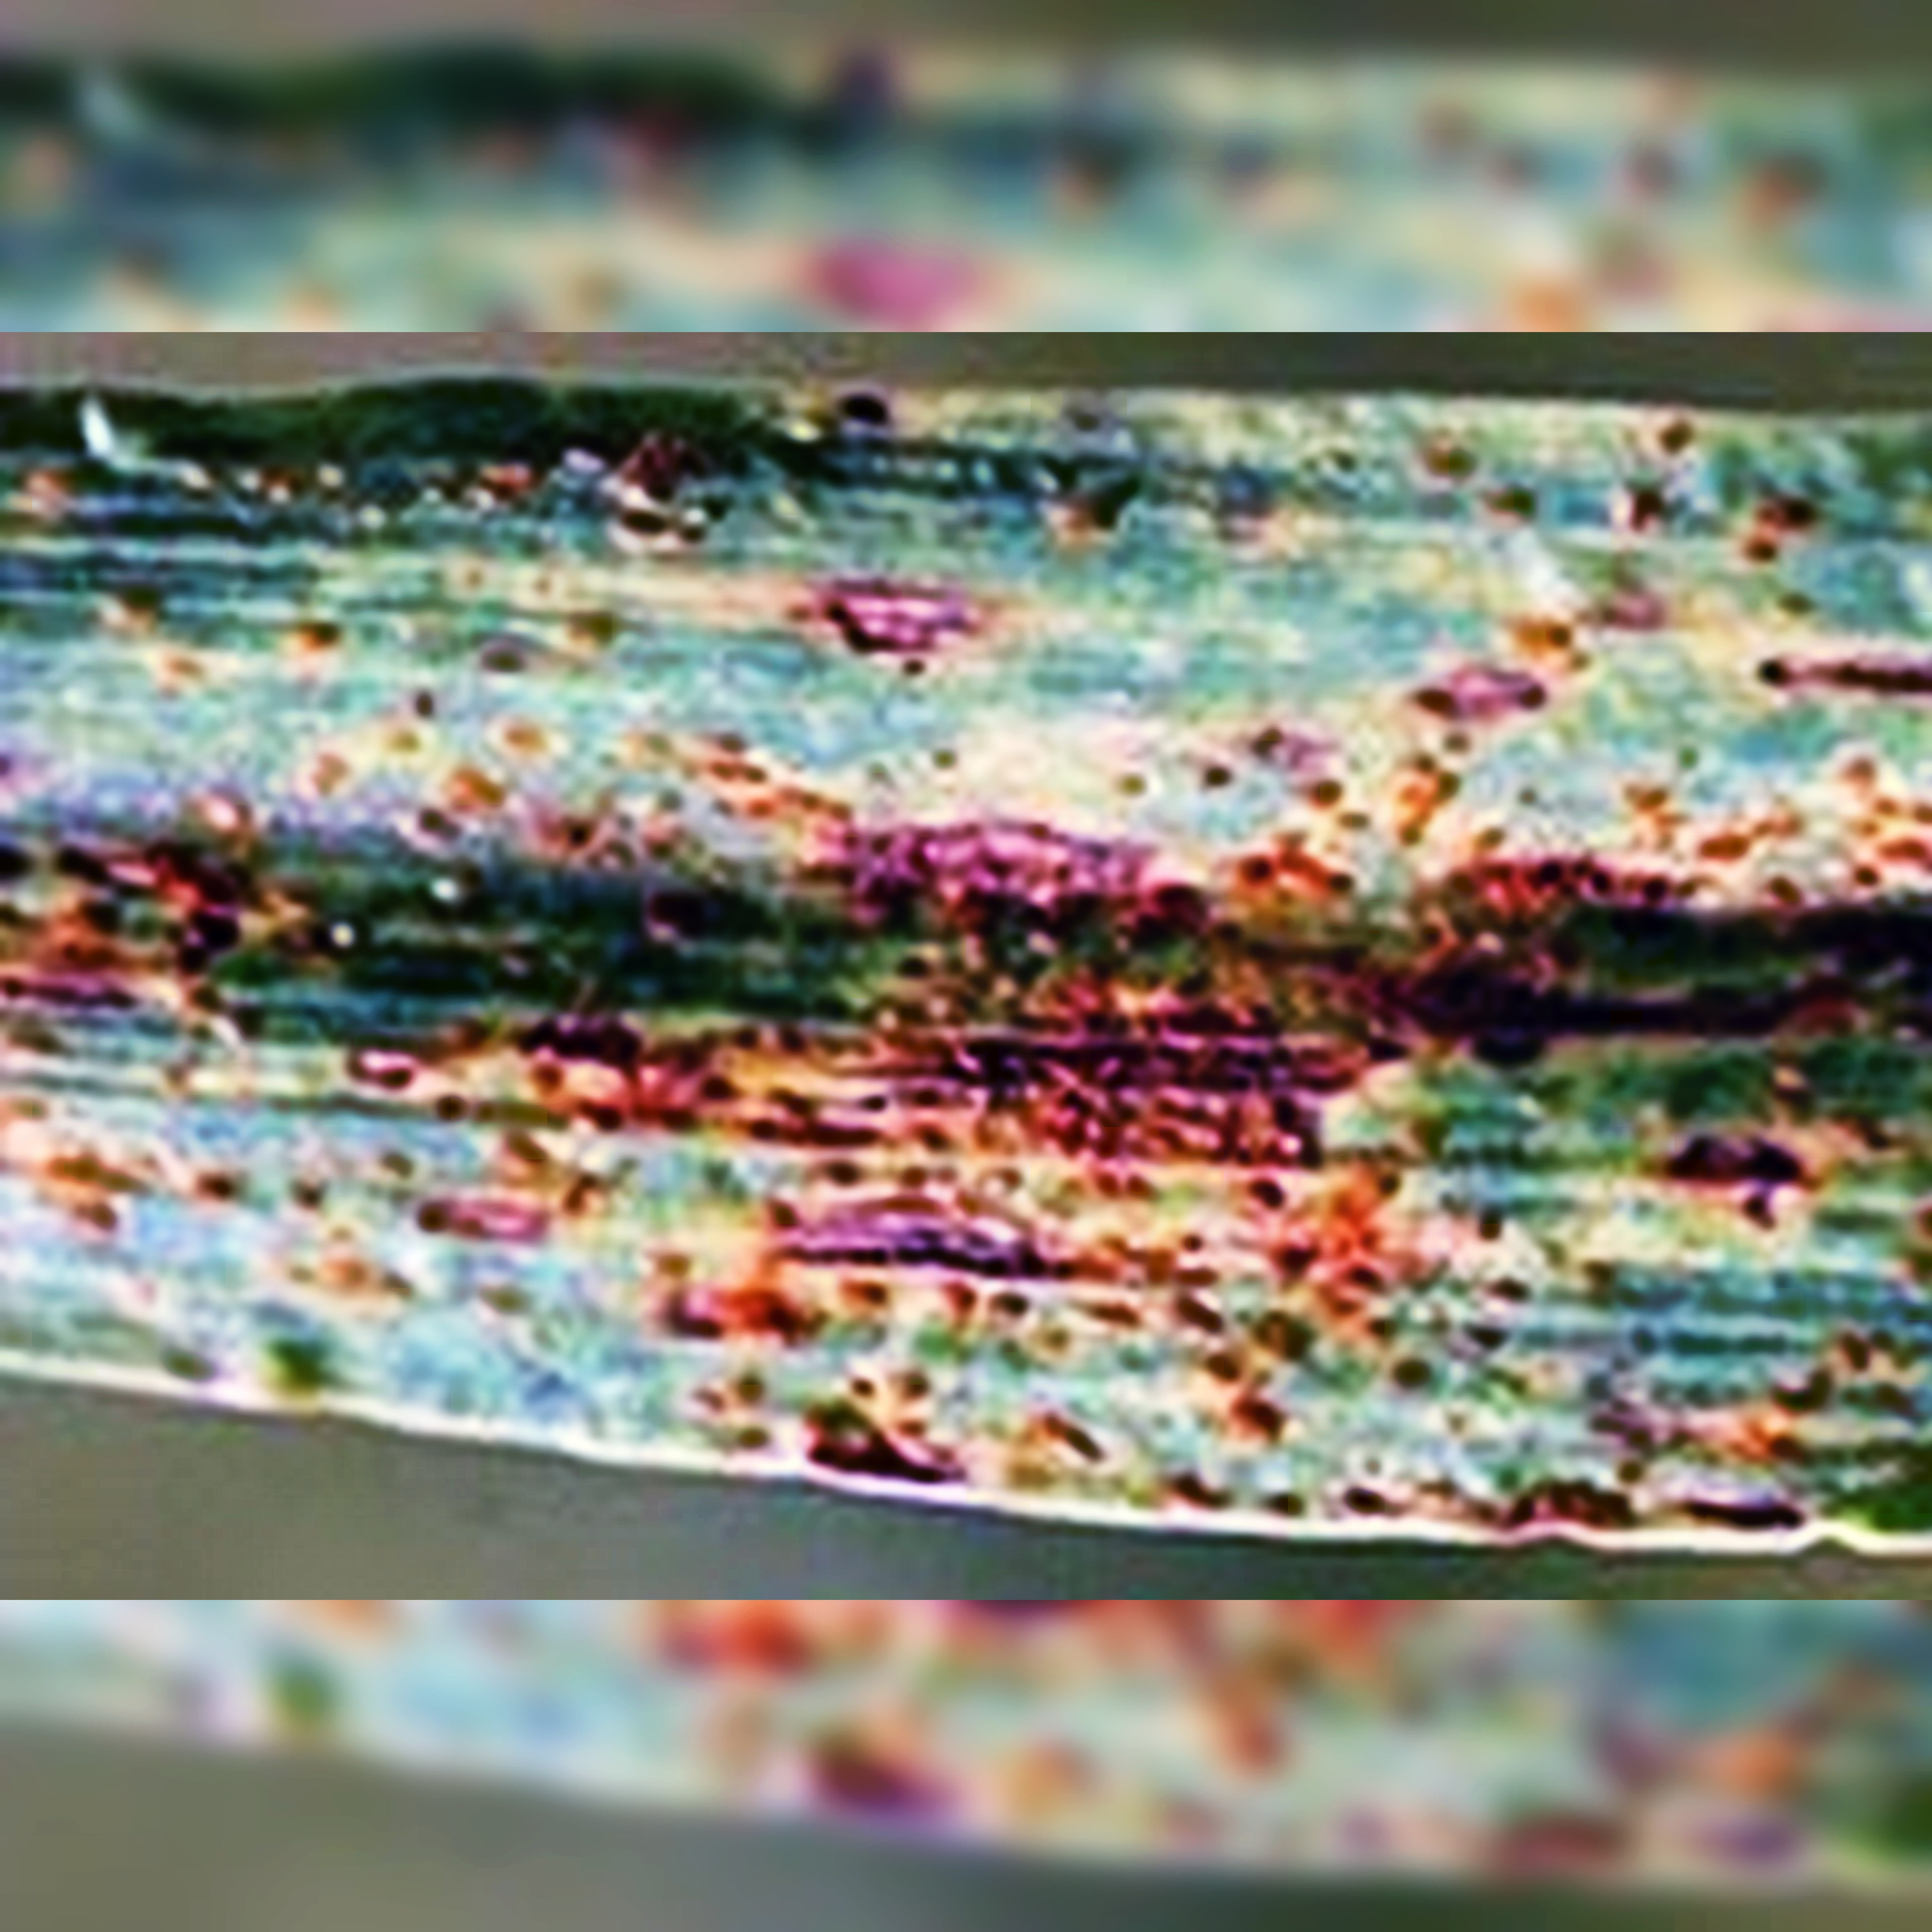Leaf Rust: (46, 479, 1798, 1555)
